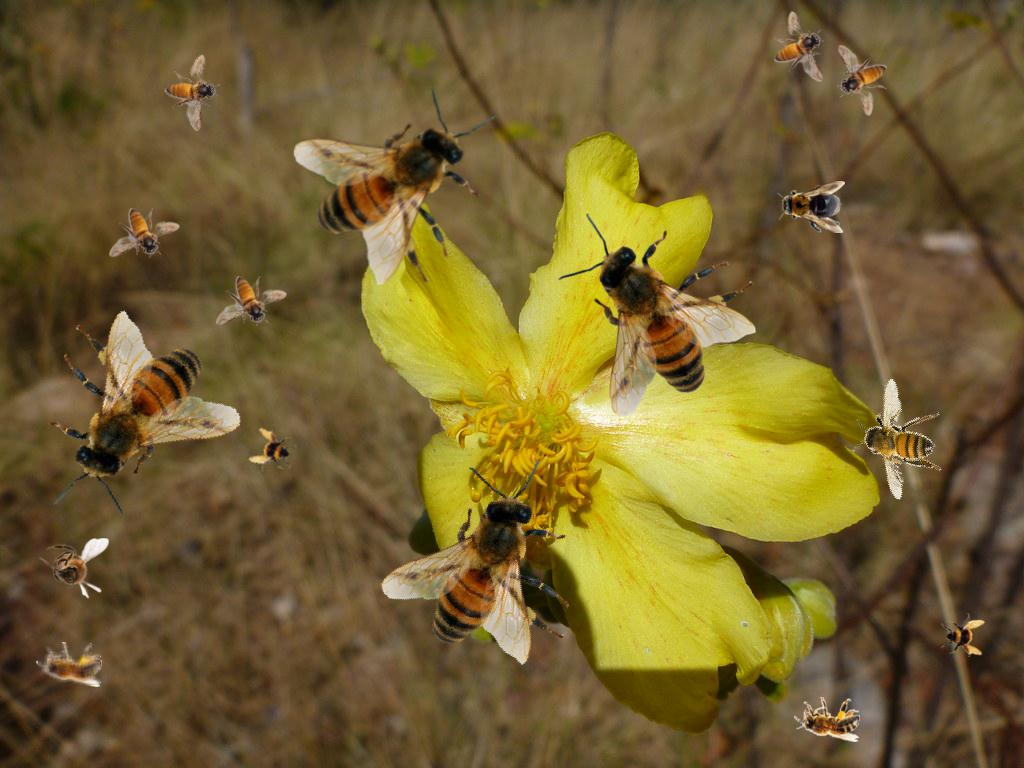Bee: (349, 432, 626, 708), (9, 288, 258, 534), (557, 213, 756, 417), (293, 86, 497, 285), (830, 365, 967, 509), (154, 46, 232, 133), (39, 538, 109, 599), (109, 208, 180, 258), (216, 276, 287, 326), (774, 11, 824, 82), (837, 45, 887, 116), (777, 181, 845, 233), (36, 642, 102, 687), (794, 697, 860, 742), (246, 425, 300, 479), (941, 613, 985, 657)
